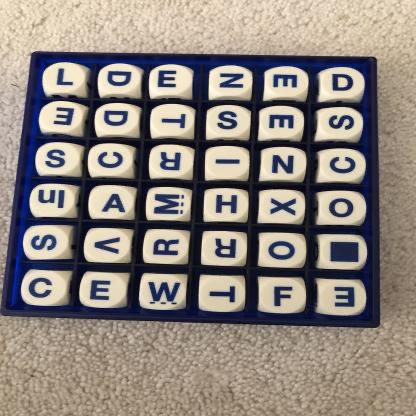a: (89, 186, 135, 220)
c: (321, 149, 367, 184), (23, 271, 67, 307), (88, 145, 133, 176)
d: (99, 64, 143, 95), (322, 68, 366, 99), (96, 104, 140, 135)
e: (319, 280, 367, 317), (80, 273, 128, 309), (260, 107, 305, 139), (40, 101, 84, 133), (265, 67, 309, 98), (150, 66, 194, 95)
f: (259, 277, 307, 314)
h: (205, 190, 249, 222)
i: (206, 147, 251, 180)
in: (30, 185, 74, 218)
l: (44, 63, 88, 94)
m: (147, 188, 192, 222)
n: (262, 148, 307, 181), (210, 66, 253, 98)
o: (260, 234, 307, 269), (319, 192, 367, 226)
r: (144, 231, 190, 266), (203, 232, 248, 267), (149, 146, 194, 179)
s: (24, 226, 70, 260), (207, 105, 252, 138), (319, 108, 365, 140), (37, 144, 80, 175)
t: (200, 276, 247, 312), (151, 105, 196, 137)
v: (85, 229, 133, 264)
w: (140, 274, 188, 311)
wild: (320, 235, 369, 271)
x: (260, 190, 306, 224)
